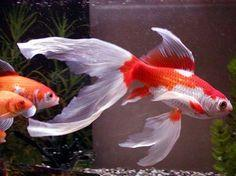goldfish: (82, 34, 236, 138)
